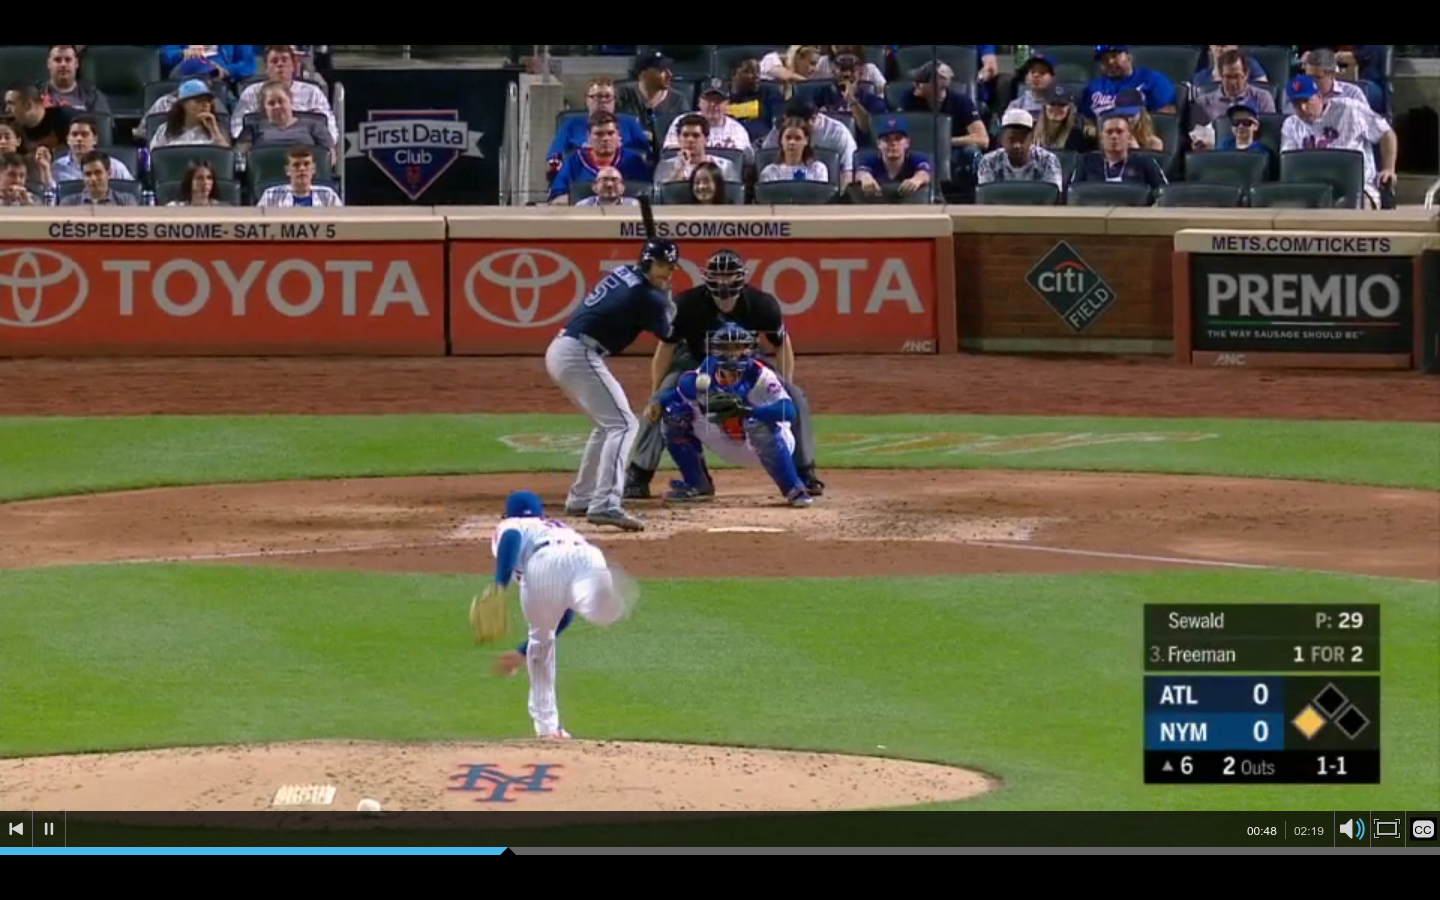baseball bat: (636, 188, 667, 249)
baseball player: (464, 488, 648, 752), (548, 246, 684, 529), (653, 326, 816, 512)
referee: (628, 252, 819, 505)
